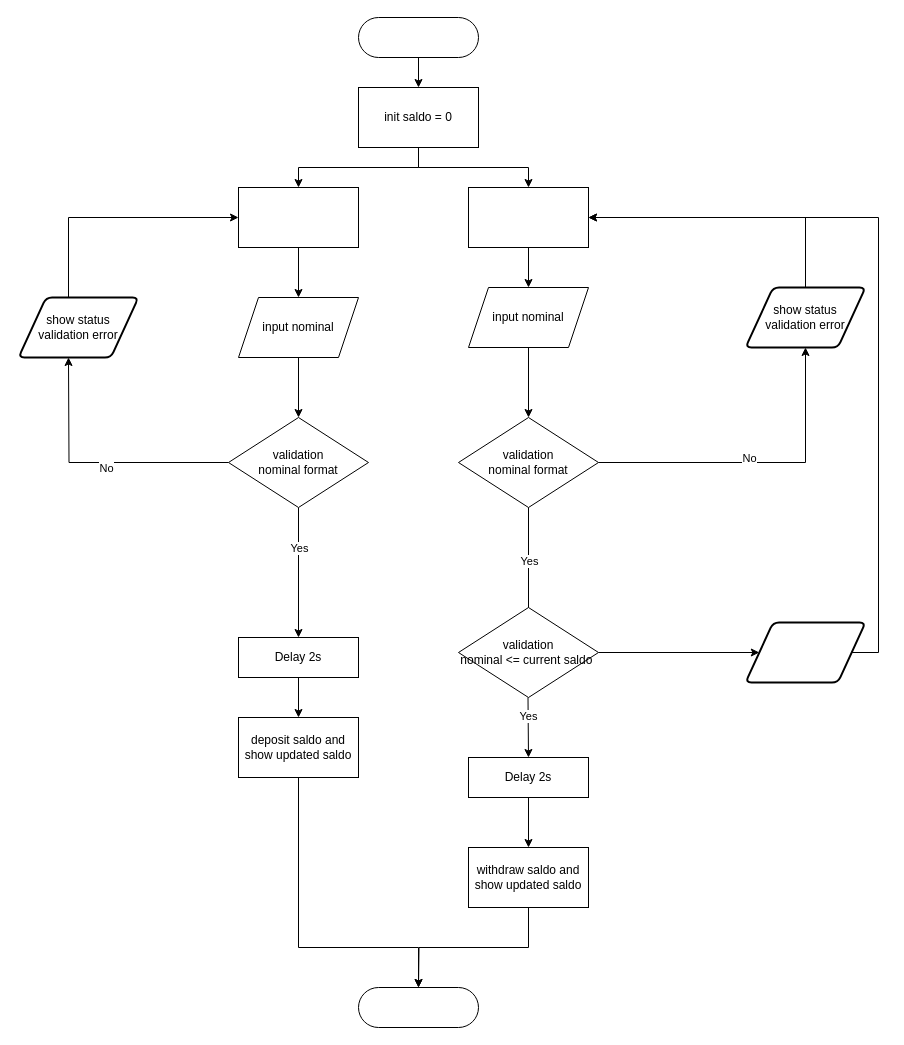
The diagram is 904 pixels wide and 1045 high, and some of its shapes have lost their labels. The centre of each missing label's shape, as x and y in pixels:
"deposit" goes at point (298, 217).
"Finish" goes at point (418, 1007).
"show status insufficient saldo" goes at point (805, 652).
"Start" goes at point (418, 37).
"withdraw" goes at point (528, 217).
